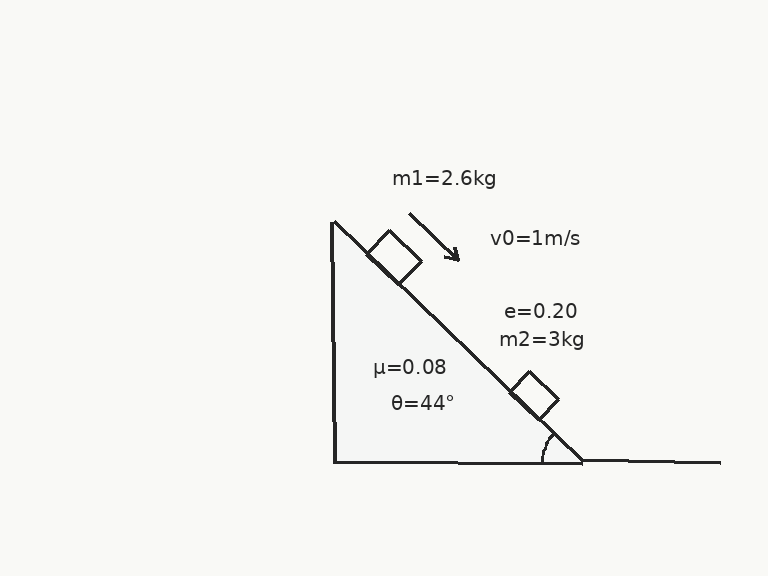block: (364, 228, 422, 286), (507, 369, 560, 421)
ramp: (331, 220, 584, 464)
